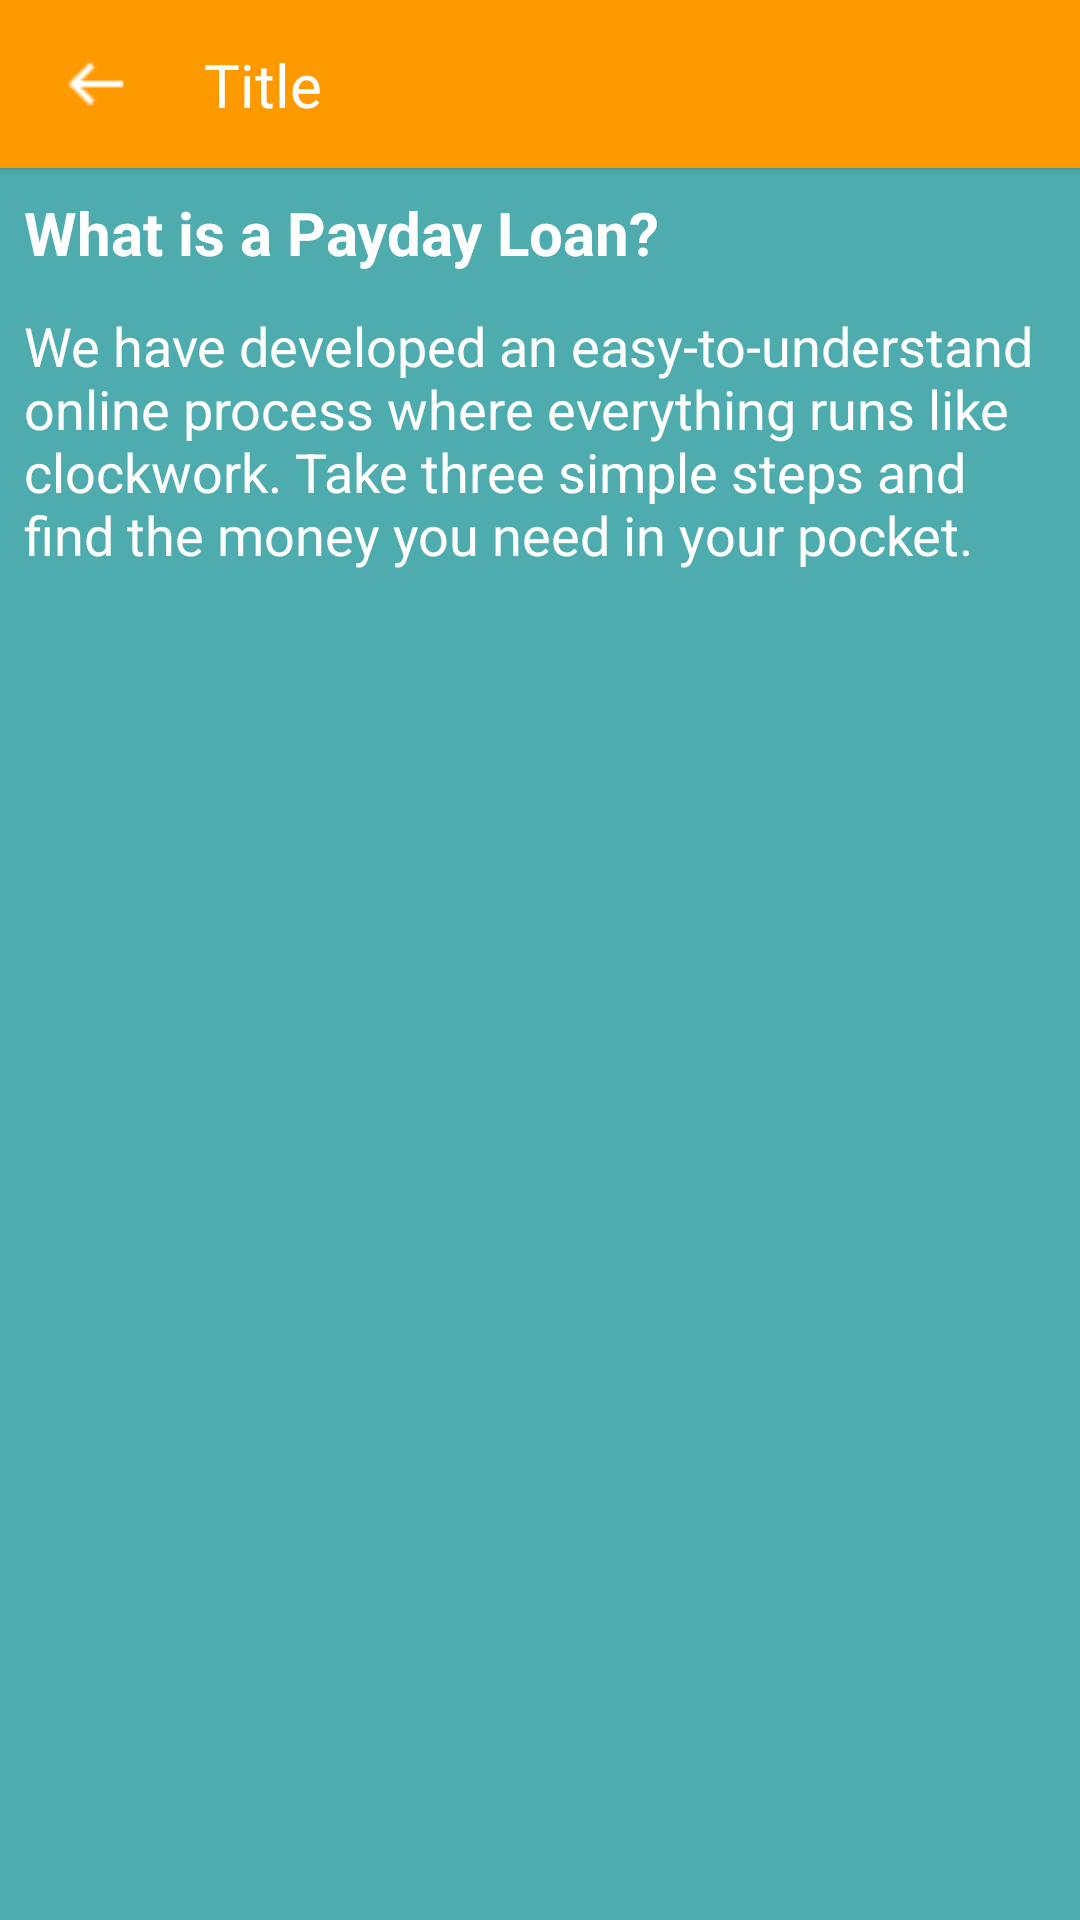

Screen size 1080w x 1920h. Icon name, then its box in pixels as (x1, y1, x2, y2):
back: (68, 62, 124, 106)
